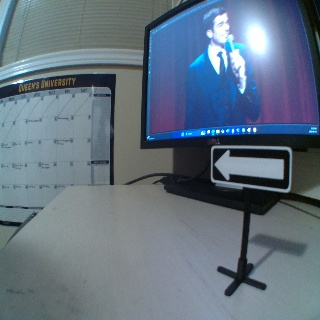sign_oneway_left: (210, 145, 291, 192)
